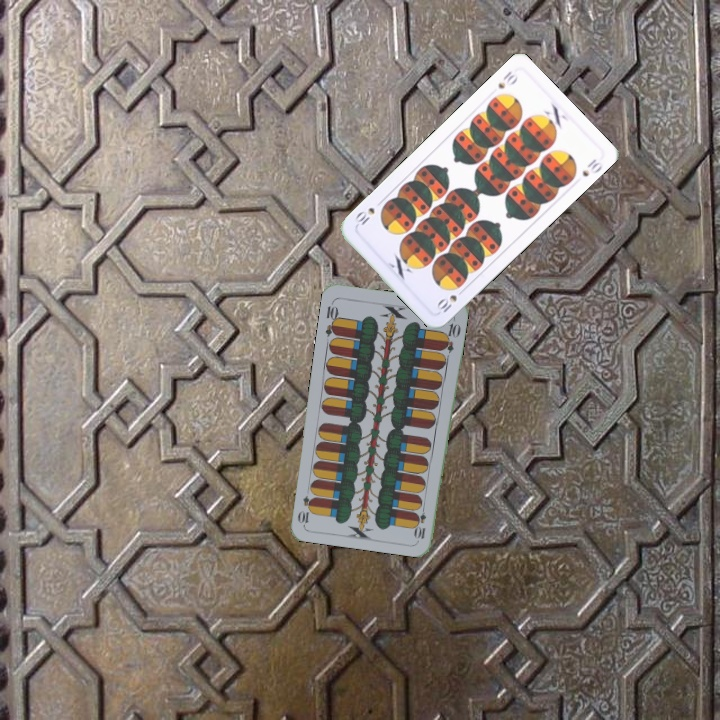E10: (321, 298, 341, 338), (413, 501, 428, 542)
S10: (432, 281, 468, 316), (494, 67, 521, 91)
